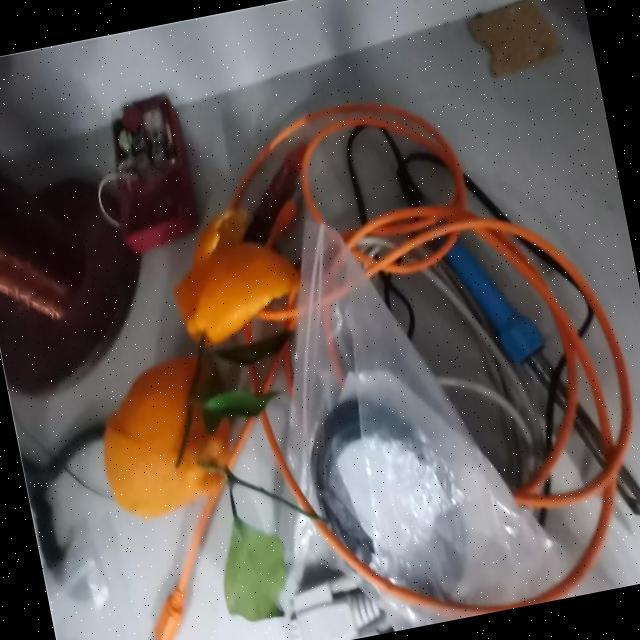orange-peel: (85, 347, 246, 525)
